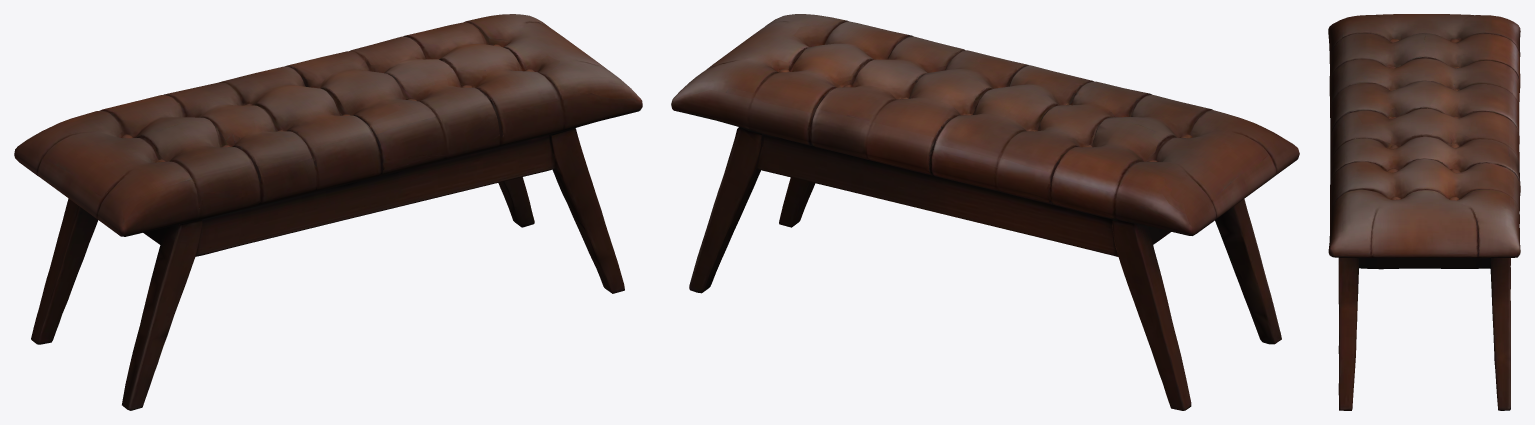
3 renders of one model, left to right at view 1: azimuth 30°, elevation 25°; view 2: azimuth 150°, elevation 25°; view 3: azimuth 270°, elevation 25°, orthographic. The views are drawn at different scales.
Parts seen in each view (by area): view 1: geometry_0; view 2: geometry_0; view 3: geometry_0.
Boxes of the visible parts, box(x1,y1,x2,y2) form: geometry_0: box(14, 14, 642, 410); geometry_0: box(671, 14, 1299, 410); geometry_0: box(1328, 14, 1520, 410).
Bounding box in the file's own units: 1 × 0.4202 × 0.3631.
Materials: 1 (1 with a texture image).
